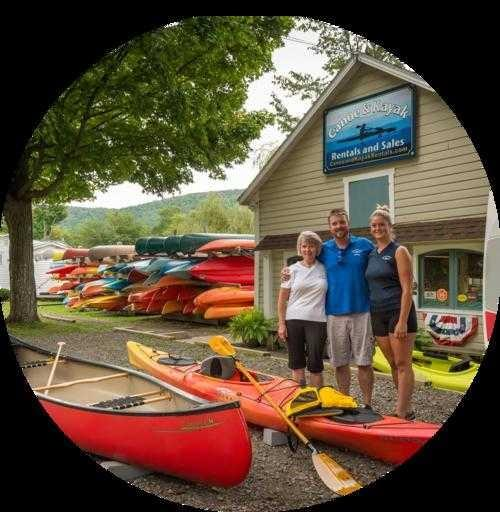kayak: (126, 339, 442, 466), (13, 340, 252, 490), (193, 287, 253, 309), (202, 305, 253, 320)
